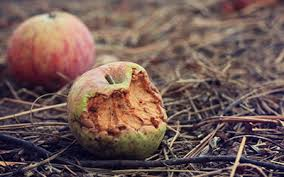damaged_apple: (67, 70, 173, 157), (10, 18, 98, 84)
